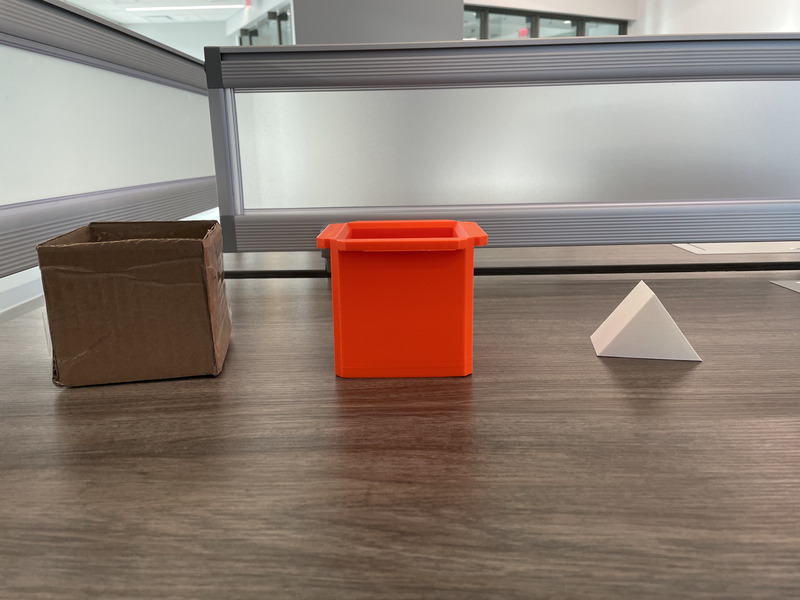payload1: (306, 212, 497, 400)
payload2: (585, 278, 721, 377)
payload3: (28, 214, 245, 398)
